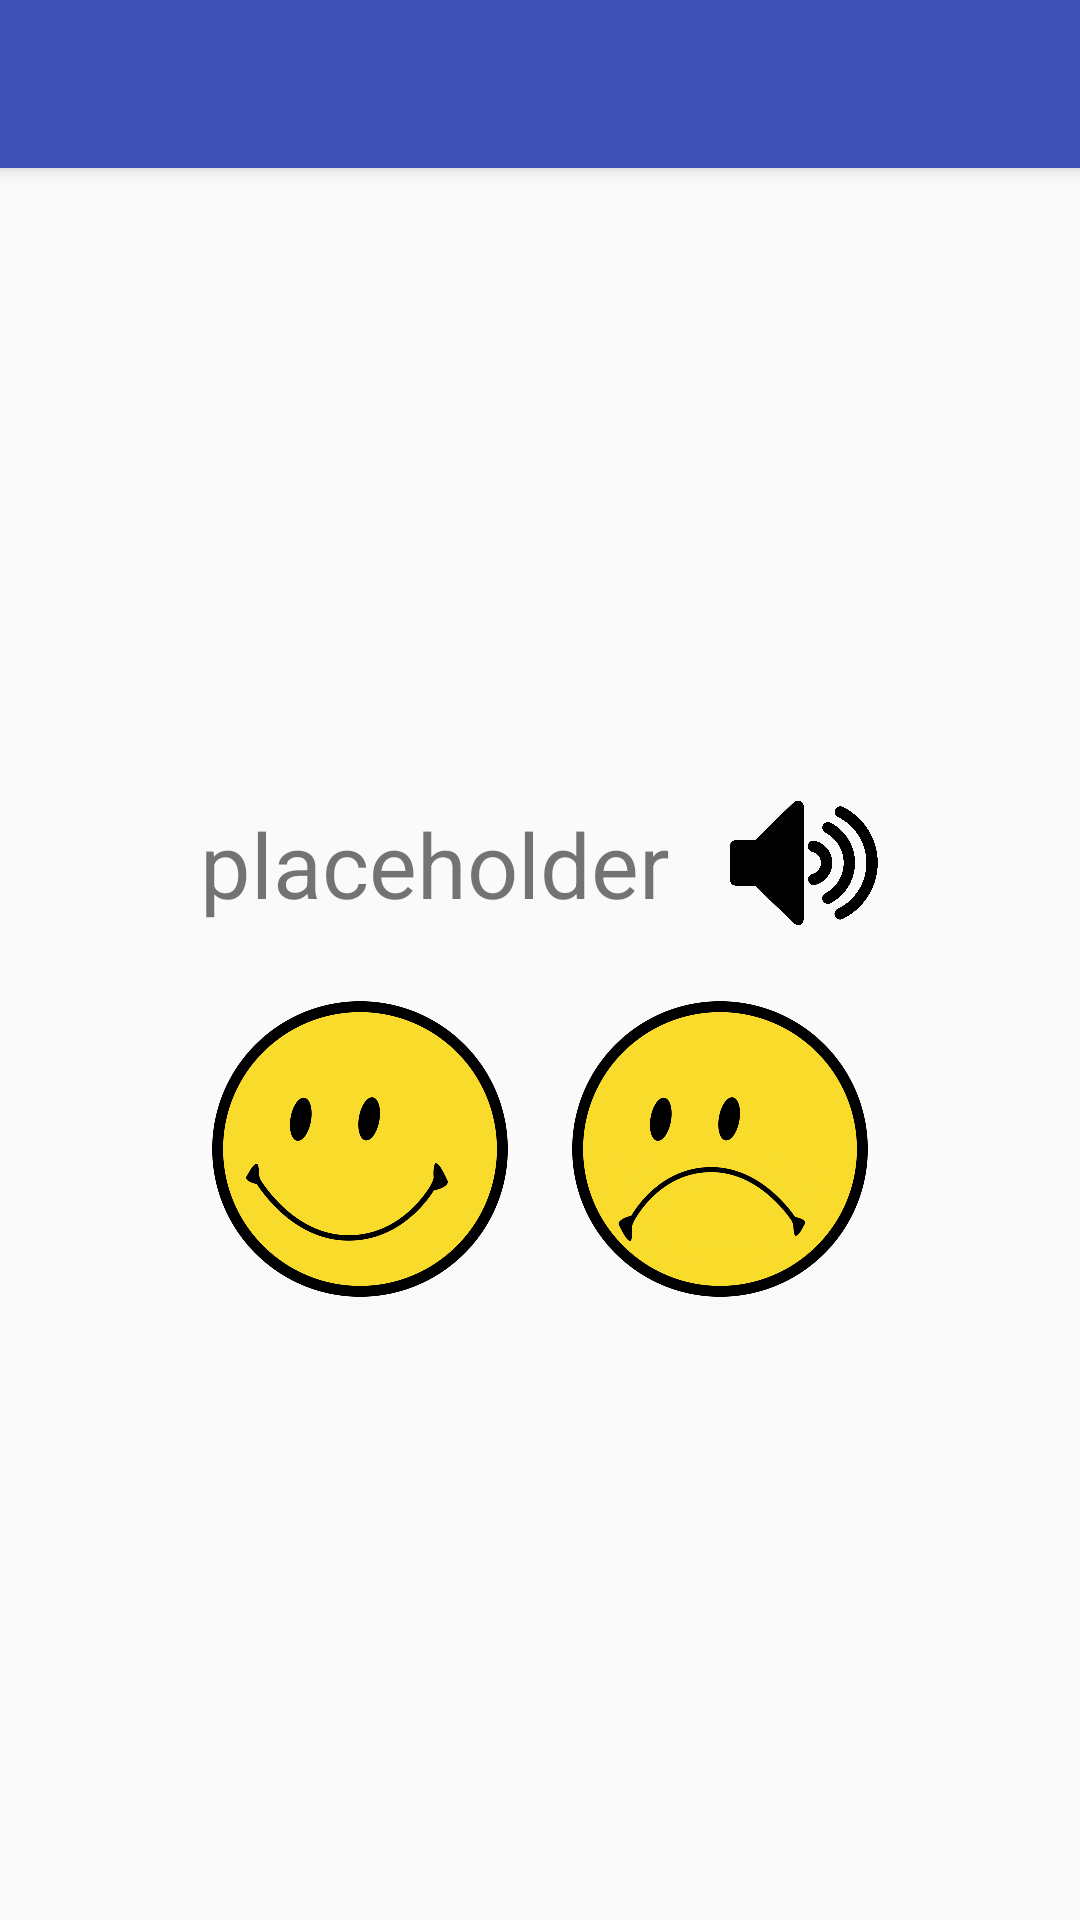

Named icons in this screenshot (1080 x 1920) and their centers, (x=x, y=y):
audioicon: (x=804, y=863)
